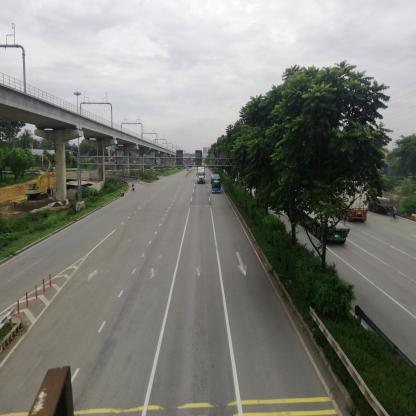bus: (211, 175, 221, 193)
truck: (198, 169, 207, 185)
